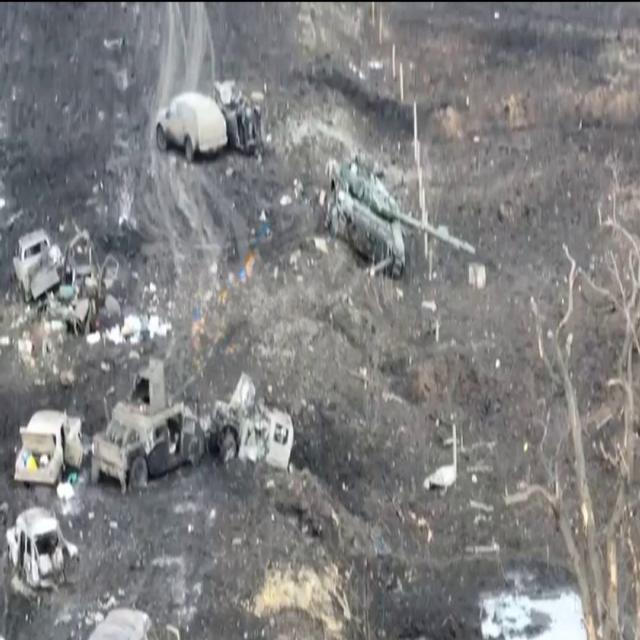Destroyed: (210, 375, 296, 469), (6, 505, 80, 600), (66, 225, 120, 334), (215, 77, 272, 160), (87, 603, 181, 640)
MBT: (324, 157, 477, 277)
Vehicle: (90, 359, 208, 500), (15, 404, 84, 494), (155, 92, 228, 170), (15, 228, 66, 304)
